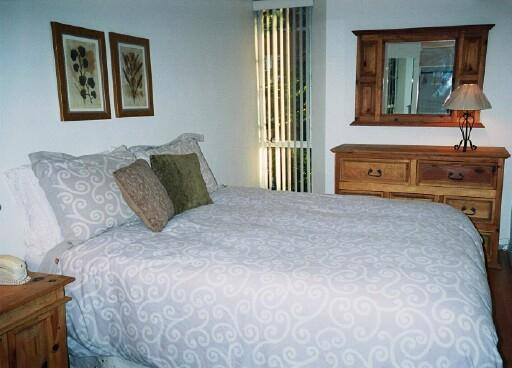Cama: (18, 155, 501, 363)
